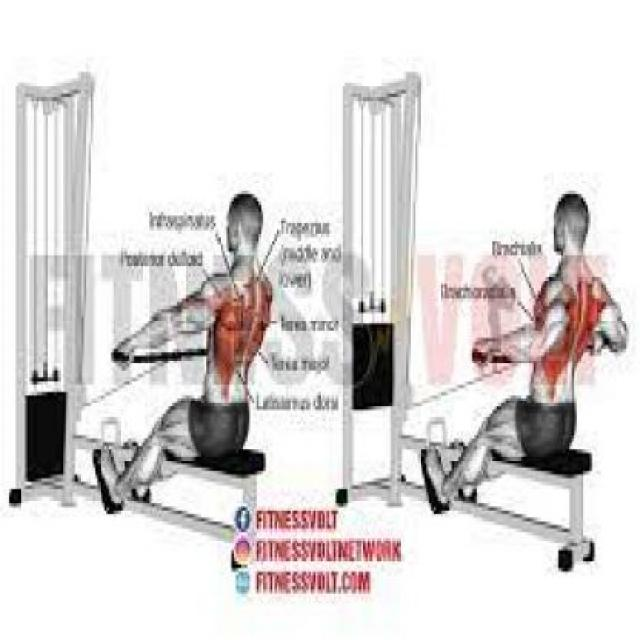Seated Cable Rows: (322, 57, 632, 588), (3, 54, 300, 532)
